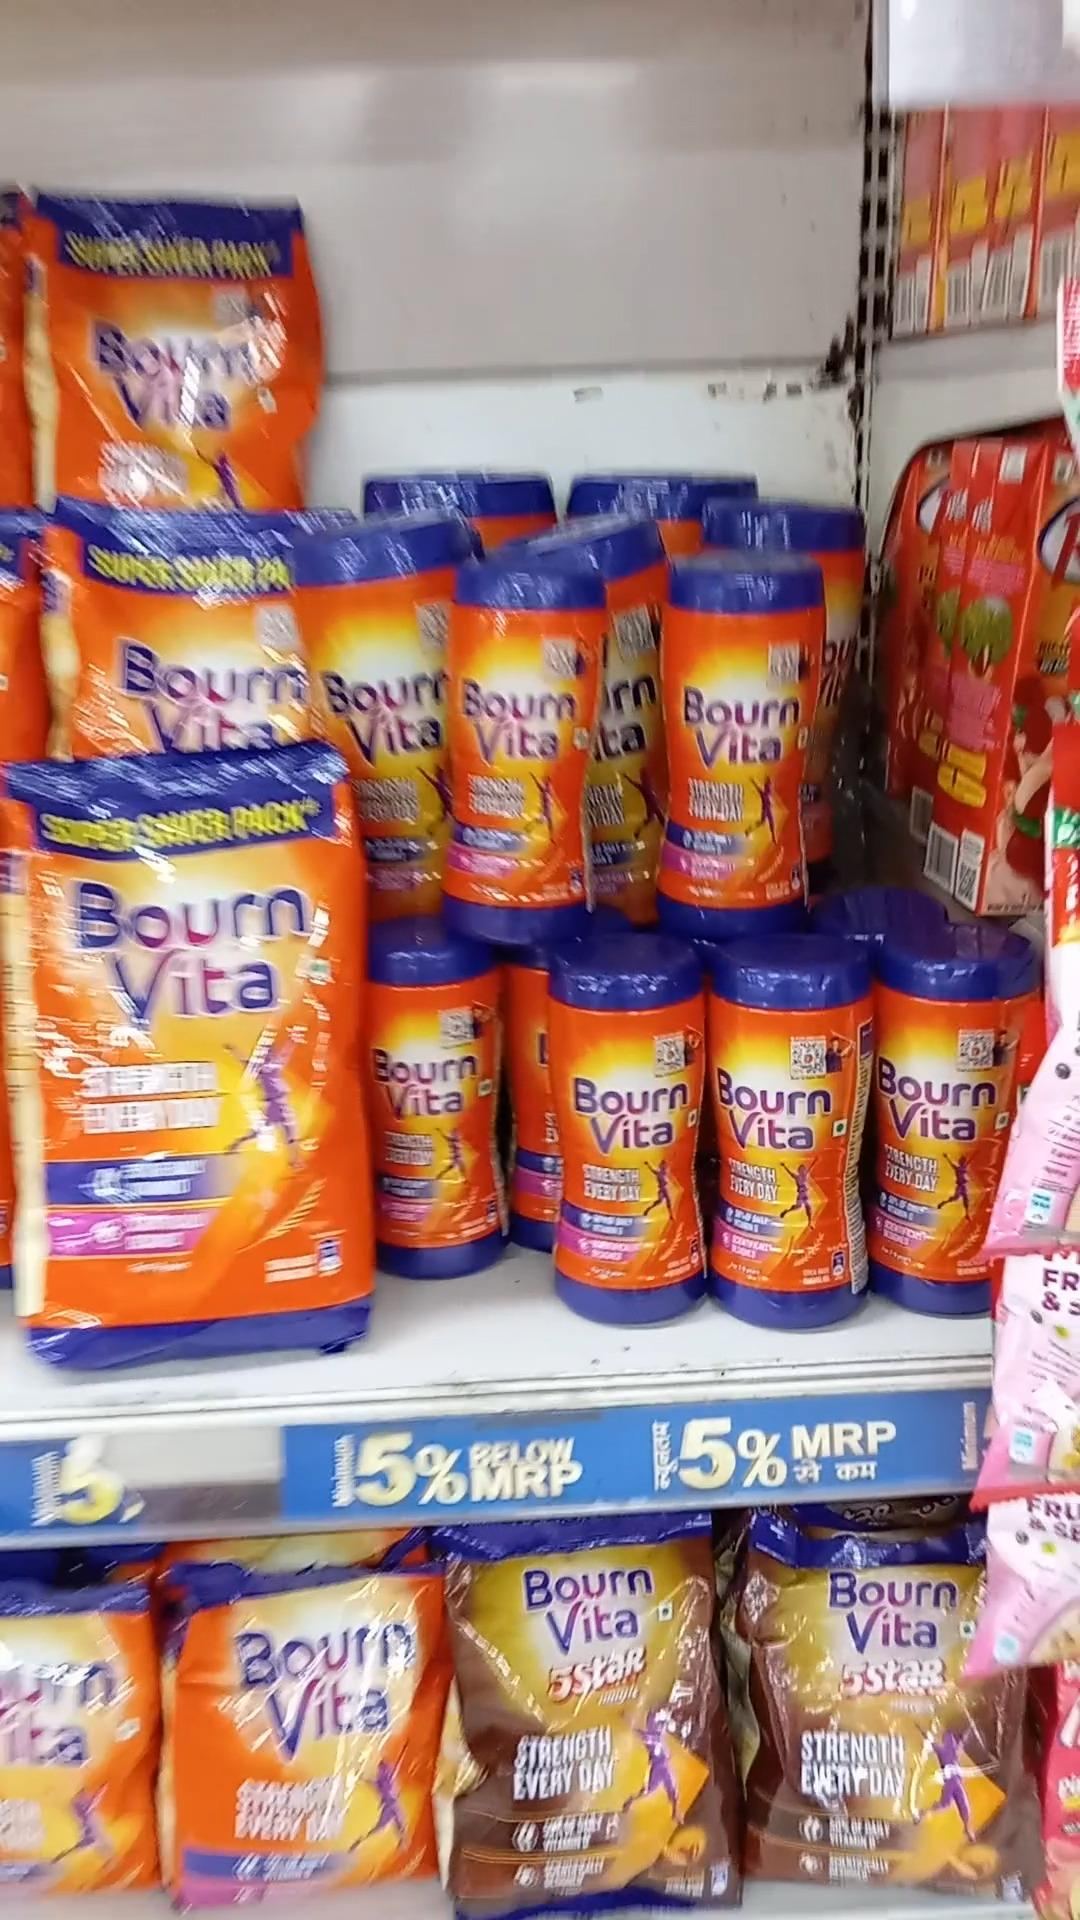BOURN_VITA_1_KG_POUCH: (0, 752, 372, 1341), (25, 191, 307, 506)
BOURN_VITA_500_G_JAR: (547, 951, 705, 1328), (657, 549, 814, 927), (713, 952, 869, 1333), (451, 568, 597, 935), (878, 951, 986, 1321)
BOURN_VITA_500_G_POUCH: (169, 1559, 425, 1899)
BOURN_VITA_FIVE_STAR_MAGIC_500_G_POUCH: (451, 1534, 735, 1920), (745, 1523, 1034, 1898)
